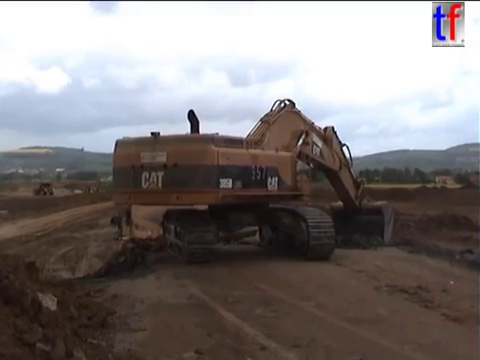excavator: (110, 96, 398, 263)
truck: (108, 201, 260, 269), (31, 180, 56, 199)
